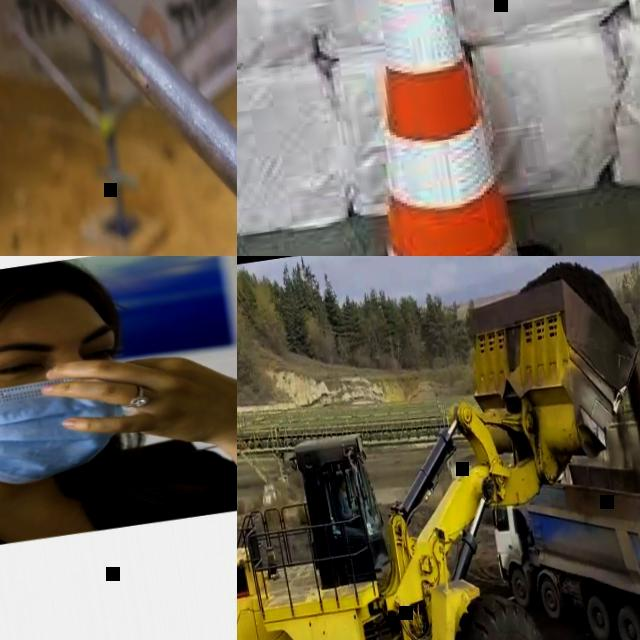machinery: (237, 259, 640, 640), (483, 429, 640, 640)
mask: (0, 356, 138, 507)
no_helmet: (0, 256, 115, 366), (336, 475, 344, 484)
no_mask: (342, 487, 347, 494)
no_vest: (0, 434, 232, 579), (338, 491, 351, 517)
person: (0, 256, 237, 591), (334, 472, 366, 536)
safety_cone: (279, 0, 593, 256)
